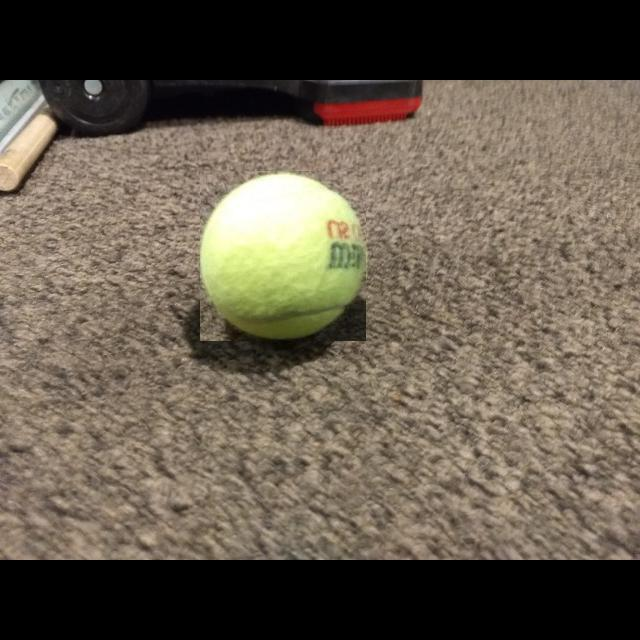tennis ball: (200, 171, 366, 341)
